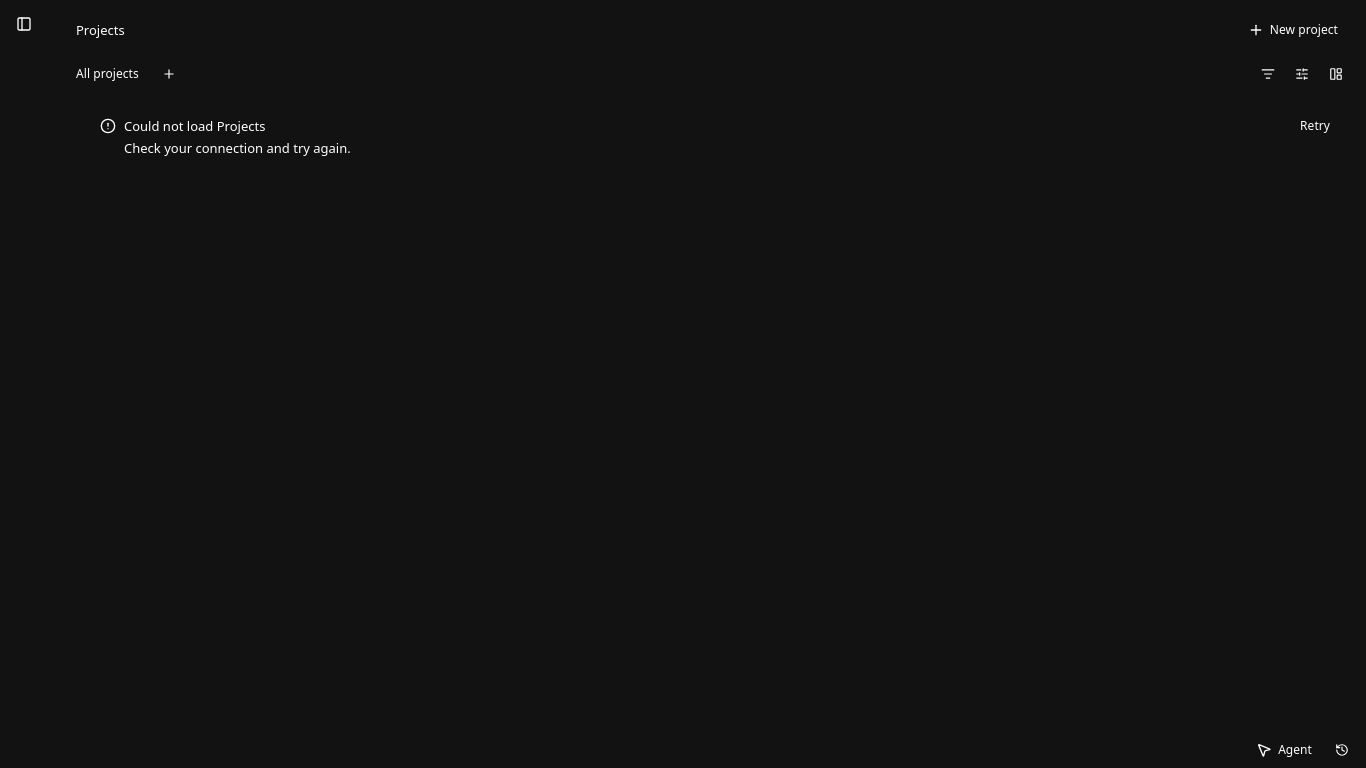
Test: Lista de Projects: dados da API › erro de leitura mostra o Alert e o Retry refaz e mostra a tabela
expect the text "Could not load Projects" is shown: met, box x1=124 y1=117 x2=265 y2=135
Click the button "Retry": (1315, 126) x1=1288 y1=112 x2=1342 y2=140
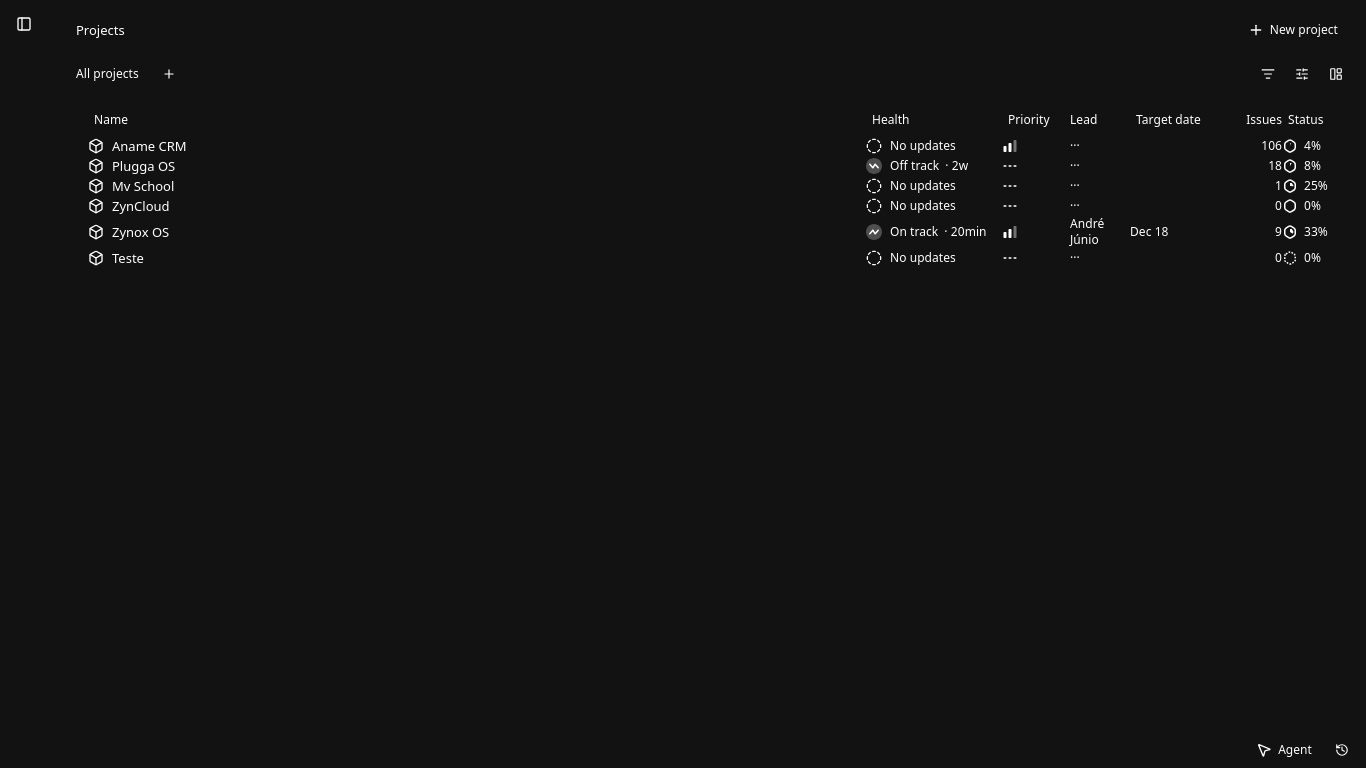
expect the link "Aname CRM" is shown: met, box x1=88 y1=137 x2=187 y2=155
